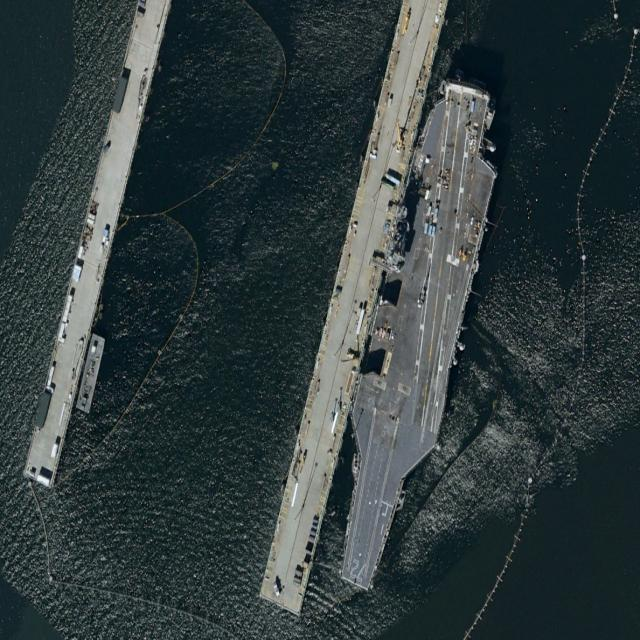Aircraft Carrier: (316, 70, 513, 604)
